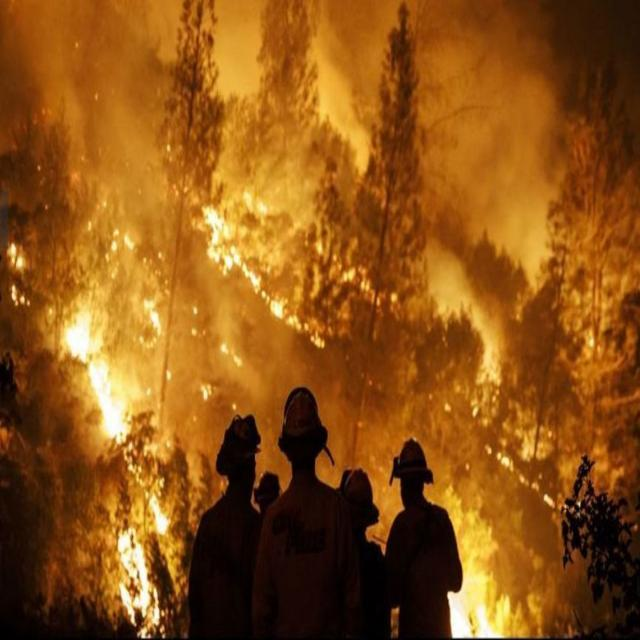fire: (58, 255, 186, 625), (192, 147, 338, 357), (452, 496, 519, 640)
